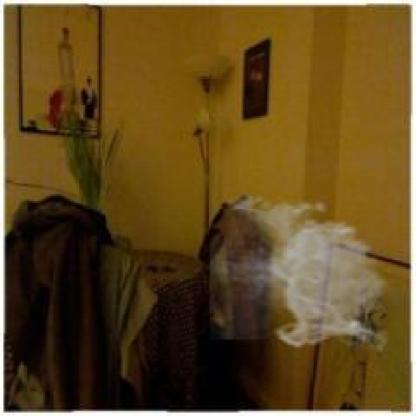Smoke: (210, 192, 393, 351)
